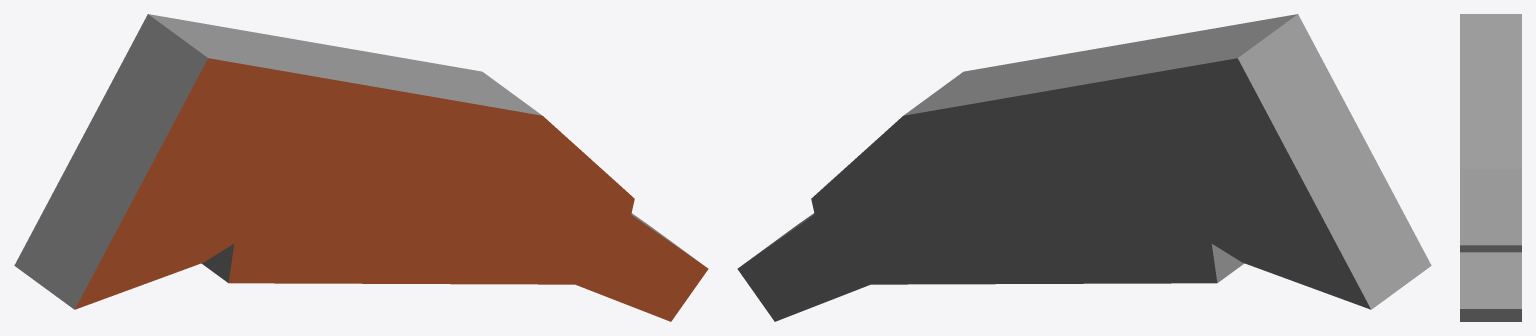
File: construction_6299_assumed_A_Casa_h6m.obj
3 renders of one model, left to right at view 1: azimuth 30°, elevation 25°; view 2: azimuth 150°, elevation 25°; view 3: azimuth 270°, elevation 25°, orthographic. The views are drawn at different scales.
Parts seen in each view (by area): view 1: construction_6299_assumed_A_Casa; view 2: construction_6299_assumed_A_Casa; view 3: construction_6299_assumed_A_Casa.
Part boxes in pixels (bbox=[...]): construction_6299_assumed_A_Casa: bbox=[14, 14, 708, 321]; construction_6299_assumed_A_Casa: bbox=[737, 14, 1431, 321]; construction_6299_assumed_A_Casa: bbox=[1460, 14, 1521, 321].
Size of the model in its own units: 36.4 by 20.67 by 6.
